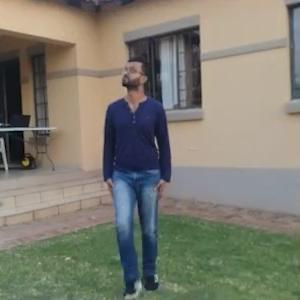follow: (99, 56, 167, 284)
